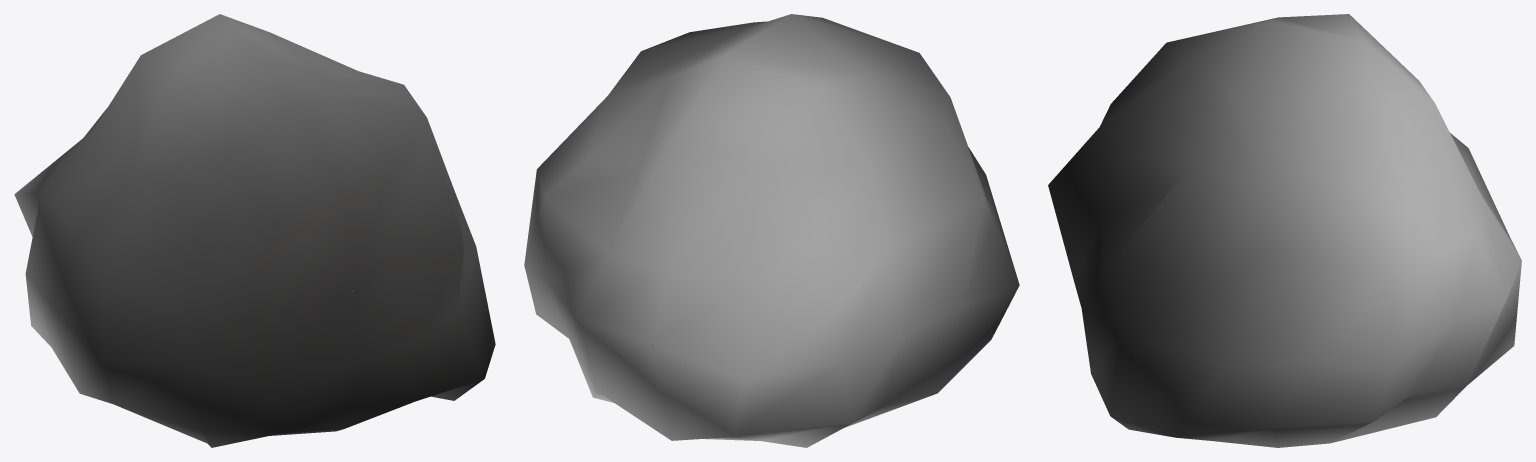
File: SmallRock.FBX
3 renders of one model, left to right at view 1: azimuth 30°, elevation 25°; view 2: azimuth 150°, elevation 25°; view 3: azimuth 270°, elevation 25°, orthographic. The views are drawn at different scales.
Parts seen in each view (by area): view 1: Box005; view 2: Box005; view 3: Box005.
Part boxes in pixels (x1=…): Box005: x1=14, y1=14, x2=495, y2=447; Box005: x1=524, y1=14, x2=1019, y2=447; Box005: x1=1048, y1=14, x2=1521, y2=447.
Size of the model in its own units: 26.26 by 21.44 by 26.95.
Materials: 1 (1 with a texture image).
